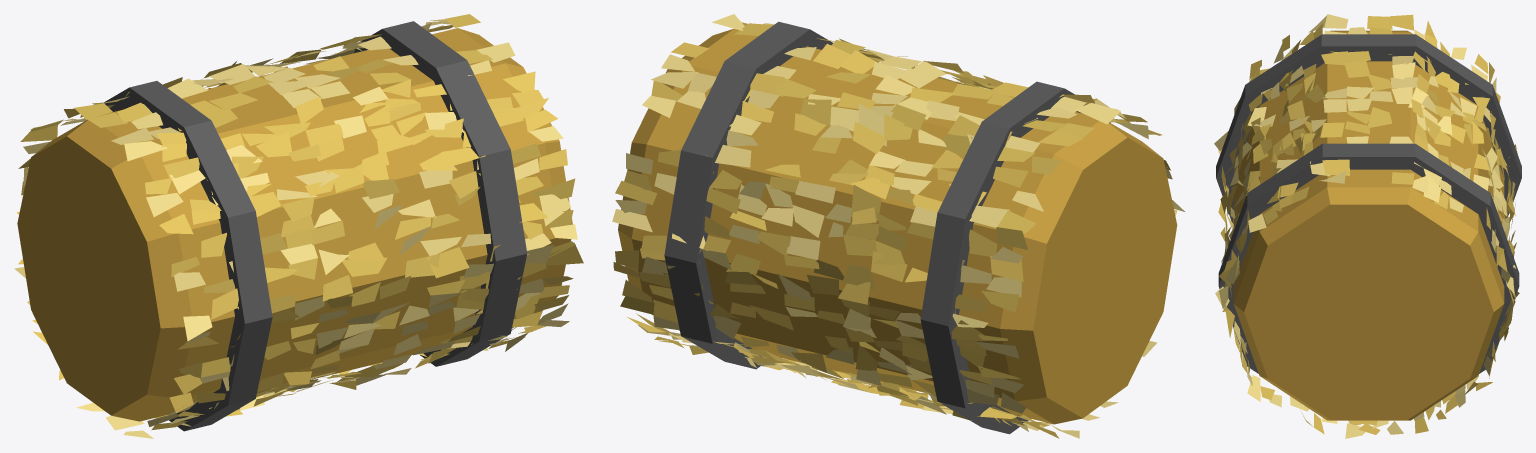
File: HAY.fbx
The picture shows the model from 3 angles, left to right: view 1: azimuth 30°, elevation 25°; view 2: azimuth 150°, elevation 25°; view 3: azimuth 270°, elevation 25°; orthographic projection. The views are drawn at different scales.
Visible parts, largest first — view 1: Cylinder.019; view 2: Cylinder.019; view 3: Cylinder.019.
Part boxes in pixels (bbox=[...]): Cylinder.019: bbox=[14, 14, 583, 438]; Cylinder.019: bbox=[612, 14, 1184, 438]; Cylinder.019: bbox=[1214, 14, 1521, 438].
Size of the model in its own units: 1128 by 800 by 837.
